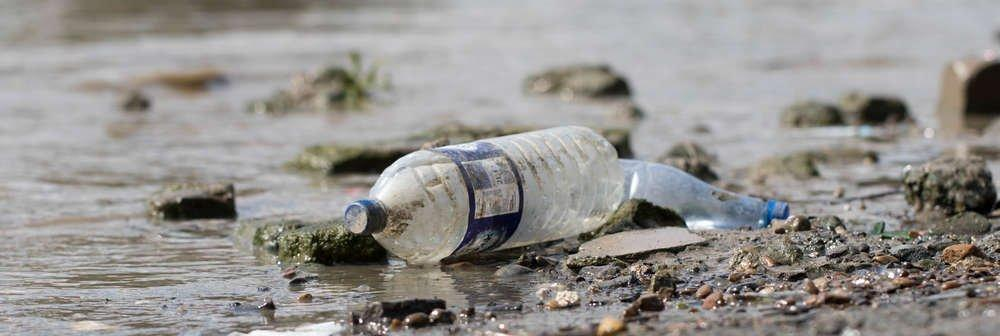bottle: (298, 124, 638, 281), (619, 141, 819, 255)
